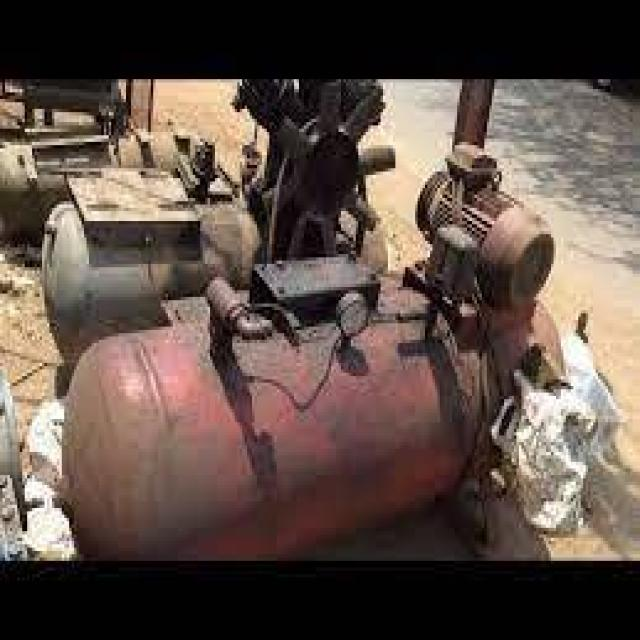compressor: (51, 82, 531, 560), (39, 168, 260, 360)
